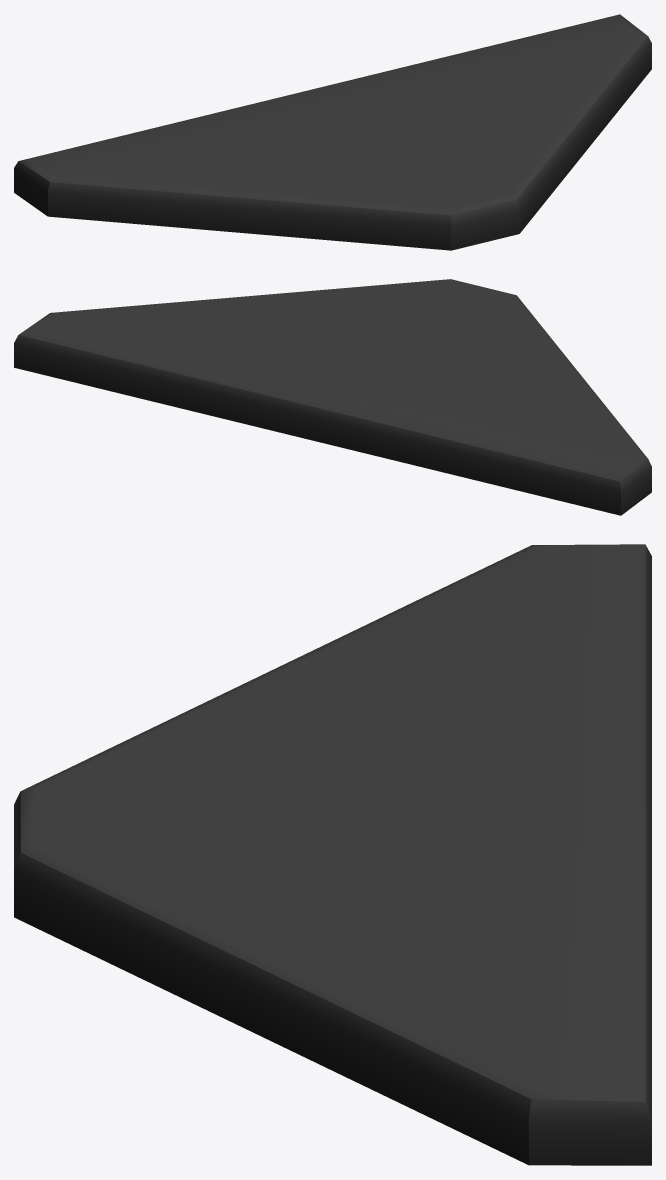
Rendered from bottone_v05_2.fbx.
3 views of the same model, one above another, from view 1: azimuth 30°, elevation 25°; view 2: azimuth 150°, elevation 25°; view 3: azimuth 270°, elevation 25° (orthographic). The views are drawn at different scales.
Visible parts, largest first — view 1: bottone_v05_2; view 2: bottone_v05_2; view 3: bottone_v05_2.
Part boxes in pixels (x1,y1,x2,y2): bottone_v05_2: [14, 14, 651, 250]; bottone_v05_2: [14, 279, 651, 515]; bottone_v05_2: [14, 544, 651, 1165].
Size of the model in its own units: 4.4 by 0.2541 by 2.11.
